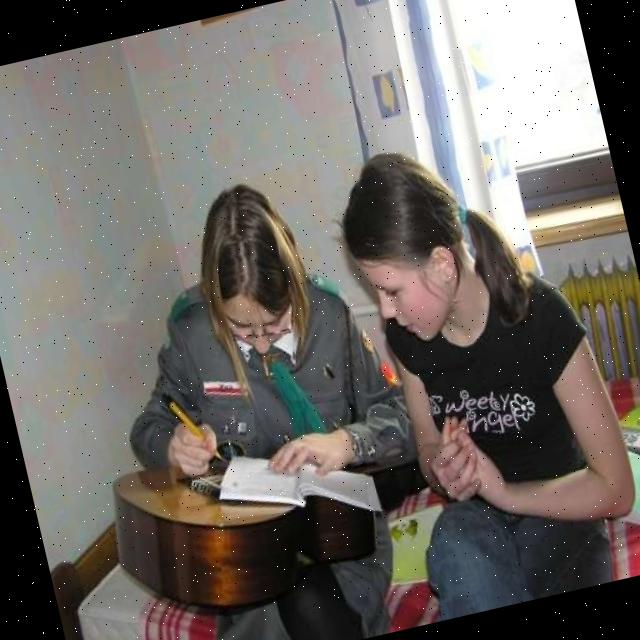guitar: (103, 412, 463, 639)
